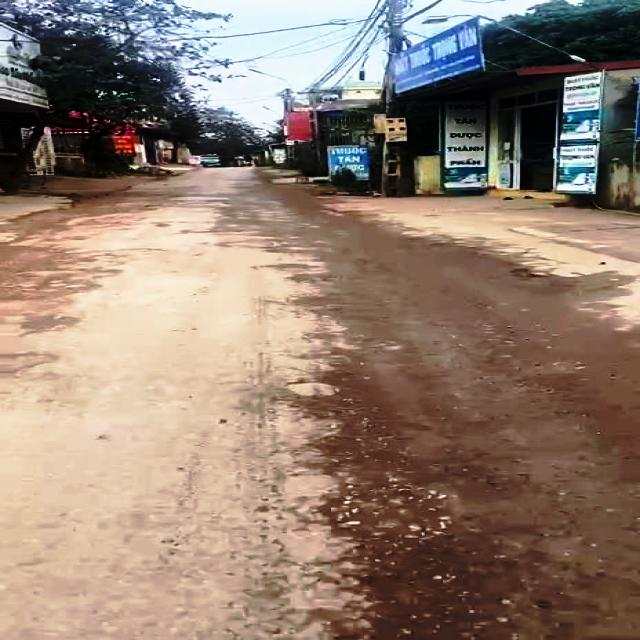pothole: (324, 533, 509, 640)
